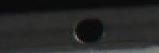holes: (73, 15, 104, 44)
